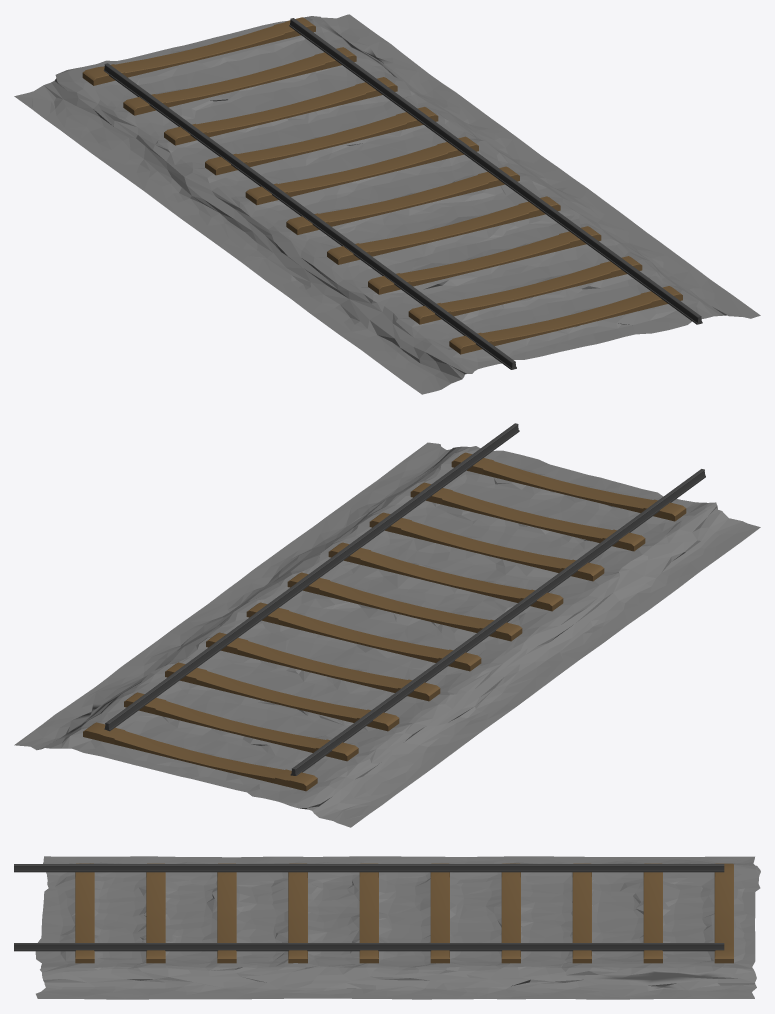
File: TramRailsCombined.fbx
3 views of the same model, one above another, from view 1: azimuth 30°, elevation 25°; view 2: azimuth 150°, elevation 25°; view 3: azimuth 270°, elevation 25° (orthographic). The views are drawn at different scales.
Parts seen in each view (by area): view 1: Track; view 2: Track; view 3: Track.
Part boxes in pixels (x1,y1,x2,y2): Track: [14, 14, 760, 394]; Track: [14, 423, 760, 827]; Track: [14, 856, 760, 999].
Bounding box in the file's own units: 1427 × 114 × 3154.
